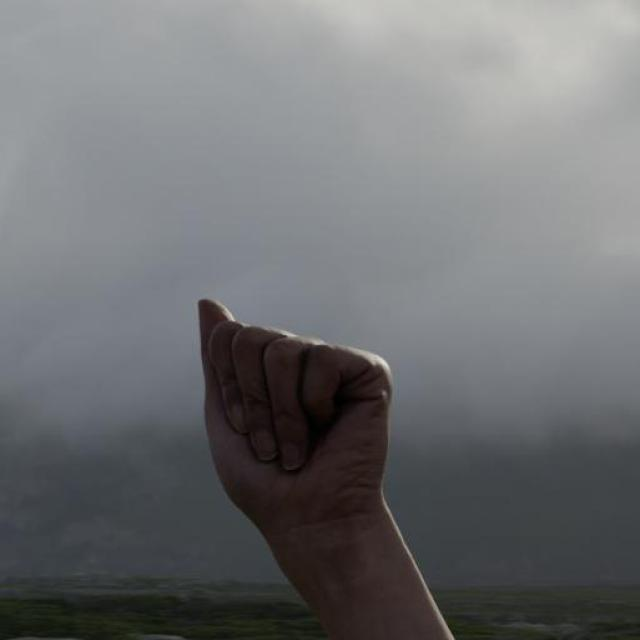A: (193, 295, 395, 524)
